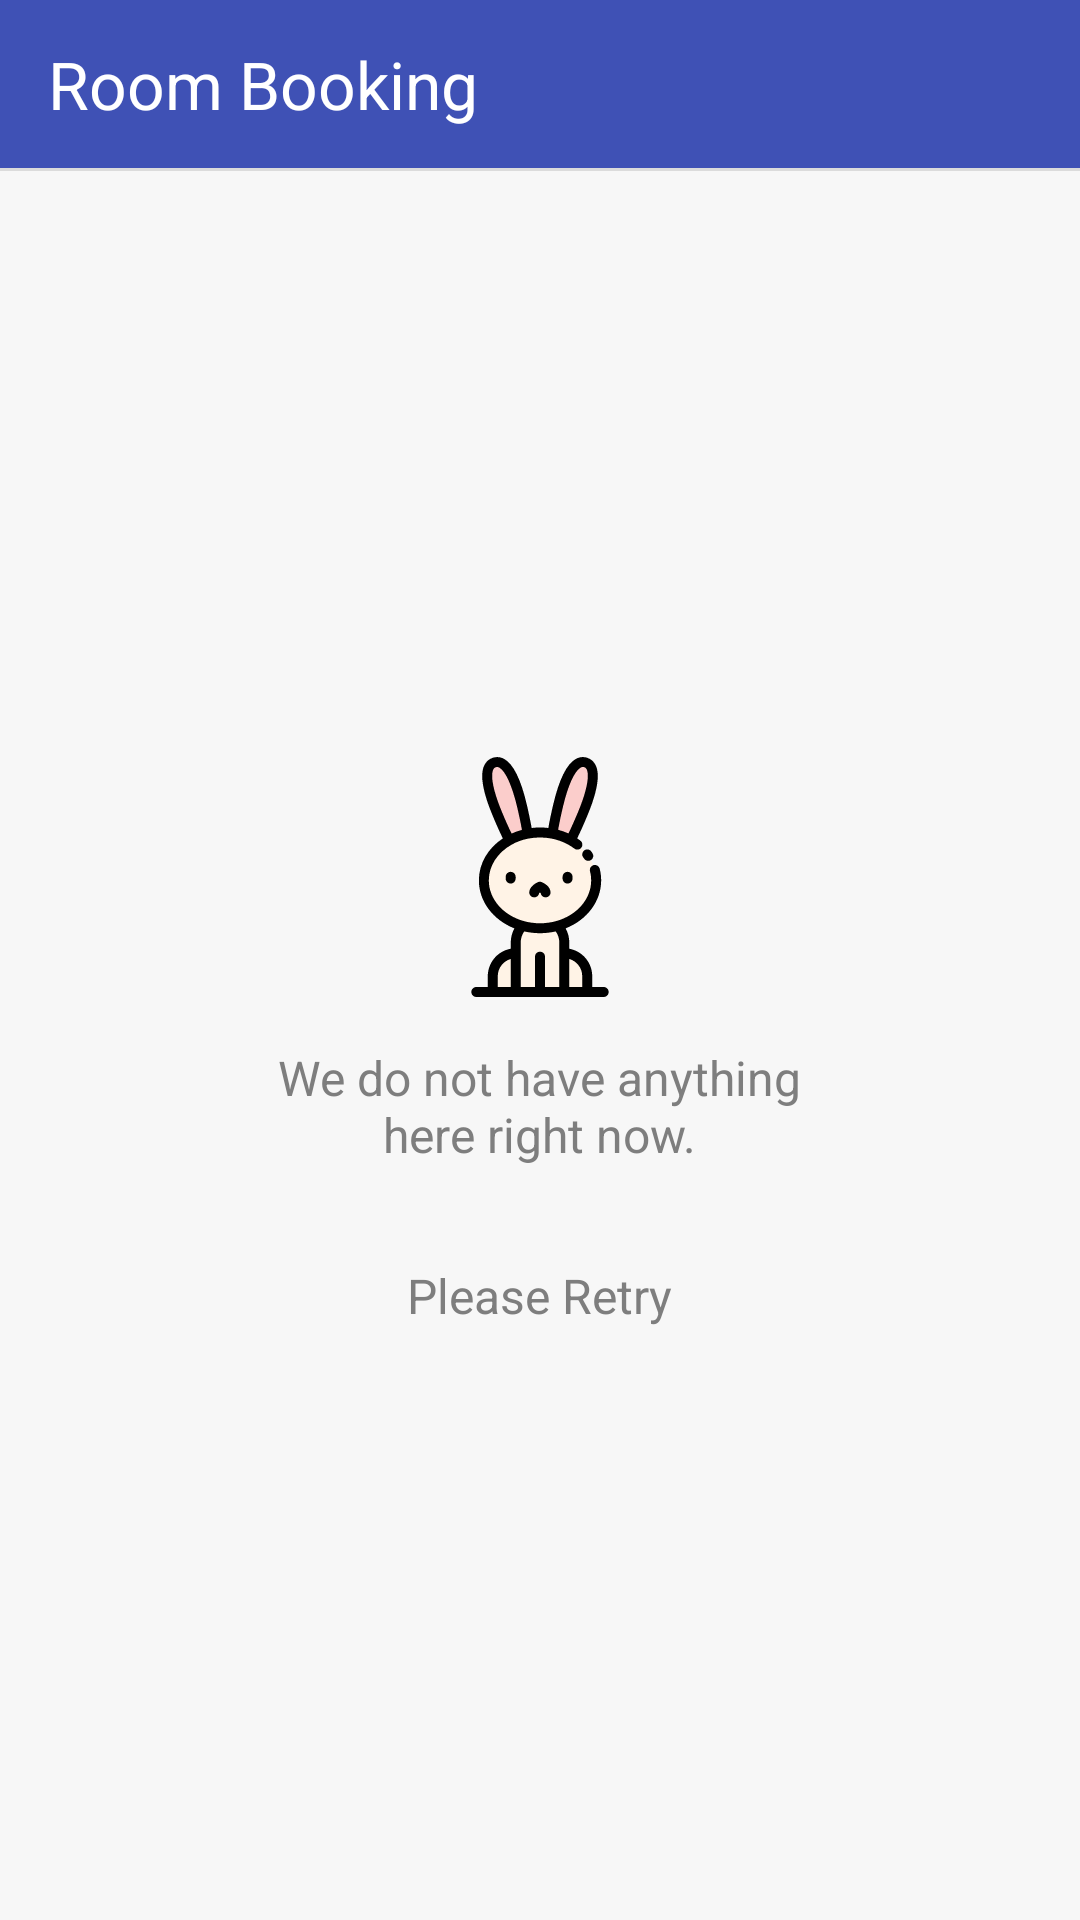

Screen size 1080 × 1920. Icon name, then its box in pixels as region(x1, y1, x2, y2):
rabbit: region(471, 757, 609, 997)
